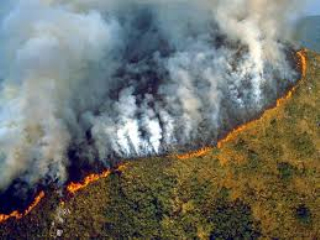fire: (3, 192, 58, 223), (66, 173, 118, 193), (171, 144, 220, 160), (295, 47, 311, 86), (222, 124, 254, 141), (276, 90, 297, 105)
smoke: (82, 103, 144, 166), (235, 16, 274, 116), (35, 100, 75, 181), (155, 97, 177, 155), (203, 81, 223, 142), (178, 86, 198, 144)
